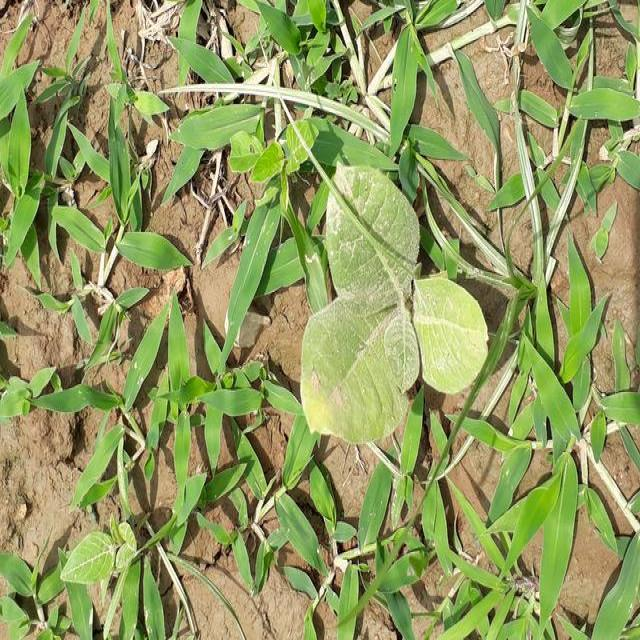crop: (314, 156, 492, 432)
